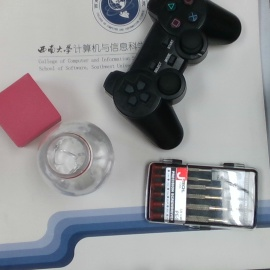bottle: (37, 119, 115, 196)
remote: (102, 1, 242, 151)
